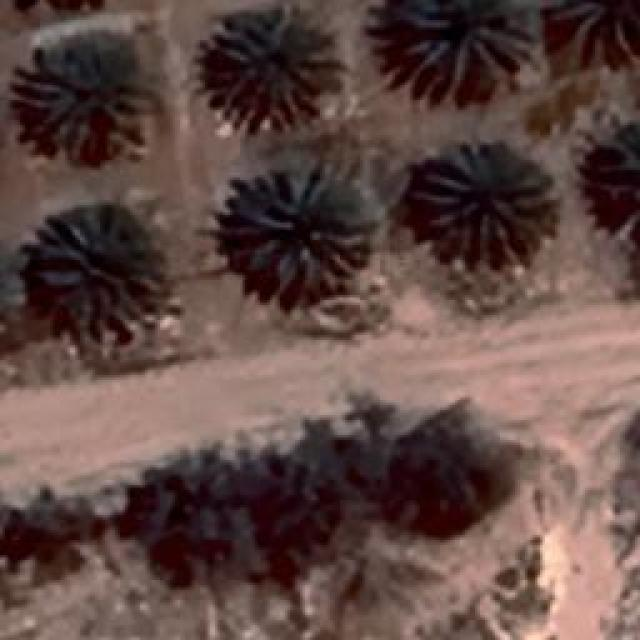PalmTree: (10, 35, 155, 163), (30, 208, 168, 342), (235, 162, 370, 290), (410, 138, 555, 252), (208, 8, 332, 132), (395, 0, 540, 70), (587, 132, 640, 257), (570, 0, 640, 70), (0, 233, 30, 363)
